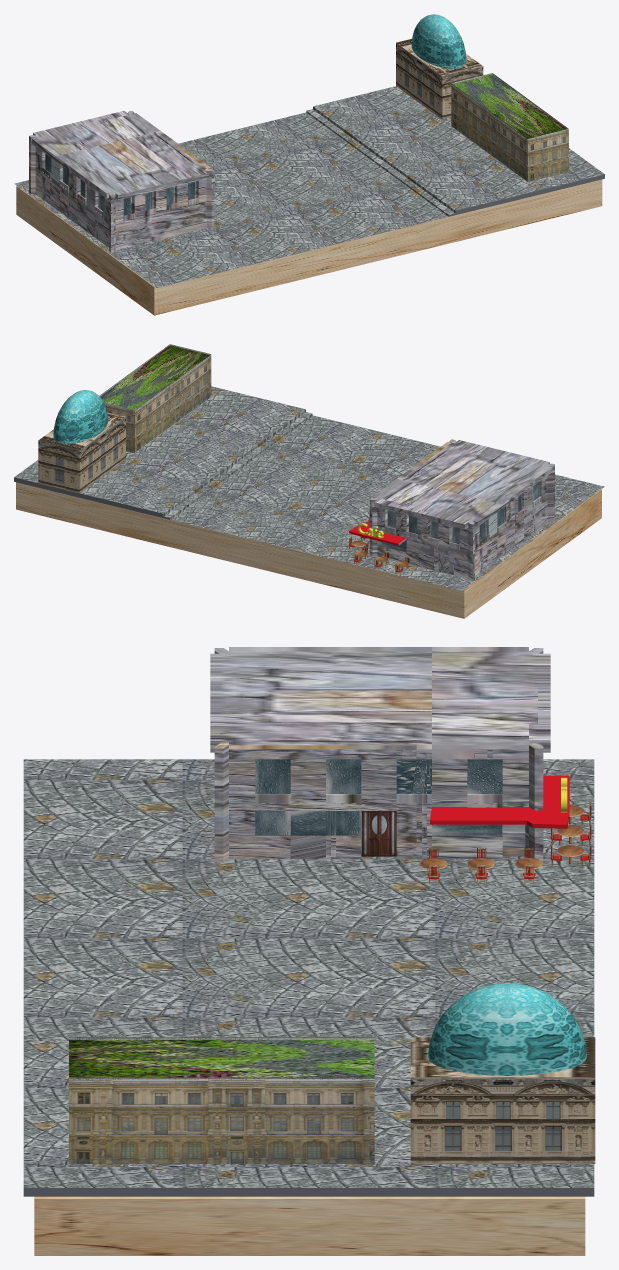
Rendered from cafeteria.glb.
3 views of the same model, one above another, from view 1: azimuth 30°, elevation 25°; view 2: azimuth 150°, elevation 25°; view 3: azimuth 270°, elevation 25° (orthographic). The views are drawn at different scales.
Parts seen in each view (by area): view 1: Cafeteria, Cube; view 2: Cafeteria, Cube; view 3: Cafeteria, Cube.
Boxes of the visible parts, x1,y1,x2,y2 form: Cafeteria: (14, 14, 604, 287); Cube: (16, 179, 602, 315); Cafeteria: (14, 344, 604, 590); Cube: (16, 482, 601, 618); Cafeteria: (23, 647, 595, 1196); Cube: (34, 1196, 585, 1255).
Size of the model in its own units: 326 by 78.57 by 180.
14 materials, 12 textured.
